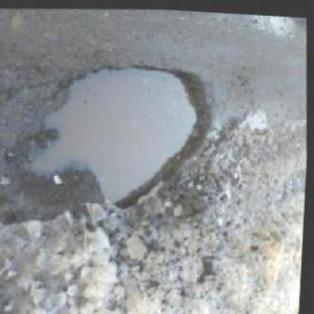Hueco: (24, 51, 222, 220), (186, 252, 218, 285), (125, 230, 154, 263)
